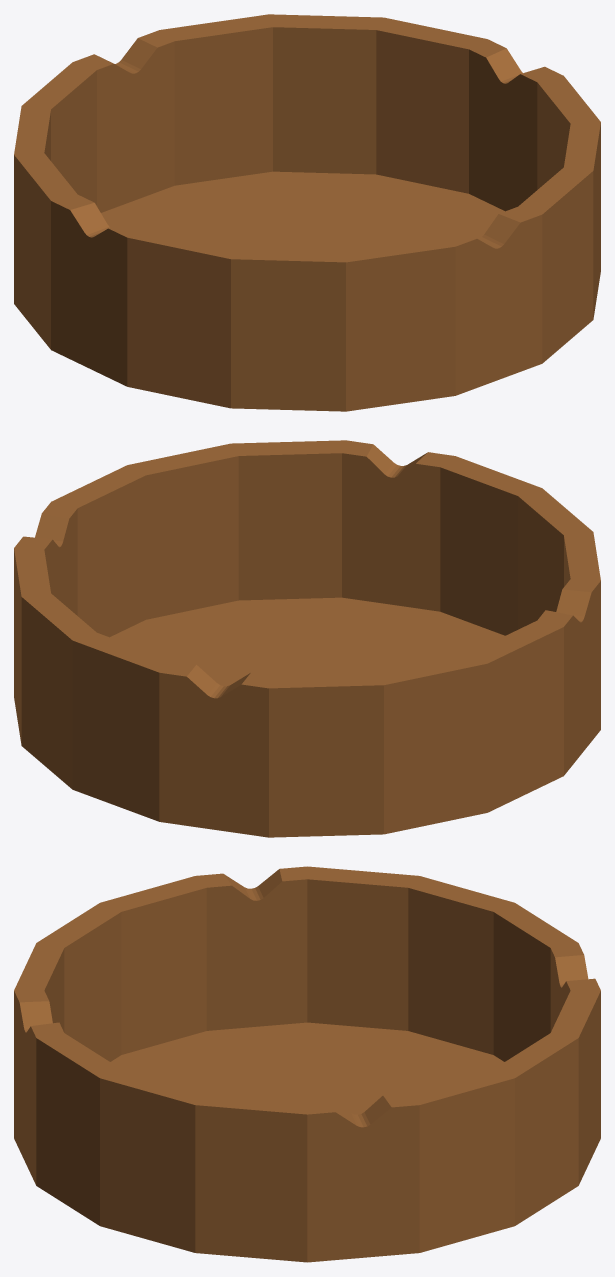
The model's file is cinzeiro.fbx.
3 renders of one model, top to bottom at view 1: azimuth 30°, elevation 25°; view 2: azimuth 150°, elevation 25°; view 3: azimuth 270°, elevation 25°, orthographic.
Parts seen in each view (by area): view 1: Cylinder; view 2: Cylinder; view 3: Cylinder.
Part boxes in pixels (<box>): Cylinder: <box>14,14,600,411</box>; Cylinder: <box>14,440,600,837</box>; Cylinder: <box>14,866,600,1262</box>.
Bounding box in the file's own units: 200 × 55.62 × 200.
